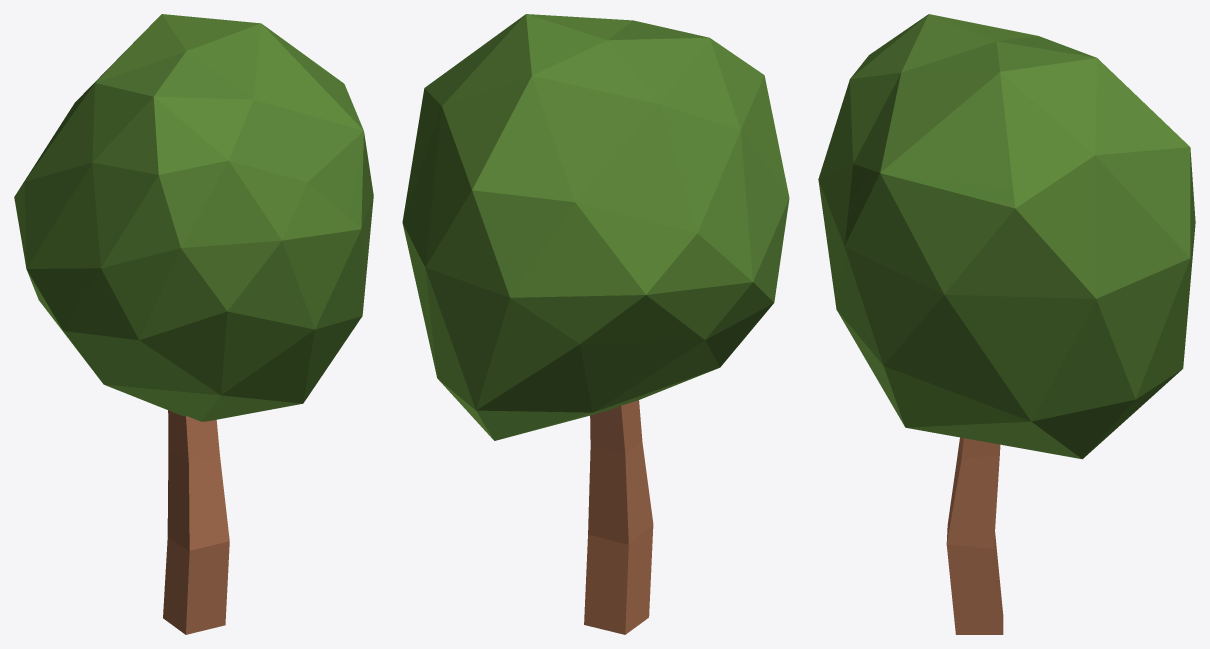
Rendered from tree-5.glb.
The picture shows the model from 3 angles, left to right: view 1: azimuth 30°, elevation 25°; view 2: azimuth 150°, elevation 25°; view 3: azimuth 270°, elevation 25°; orthographic projection. The views are drawn at different scales.
Visible parts, largest first — view 1: Tree 5_0; view 2: Tree 5_0; view 3: Tree 5_0.
Boxes of the visible parts, x1,y1,x2,y2 form: Tree 5_0: [14, 14, 373, 634]; Tree 5_0: [402, 14, 789, 634]; Tree 5_0: [818, 14, 1195, 634].
Size of the model in its own units: 16 by 27.59 by 15.93.
1 material, 1 textured.
